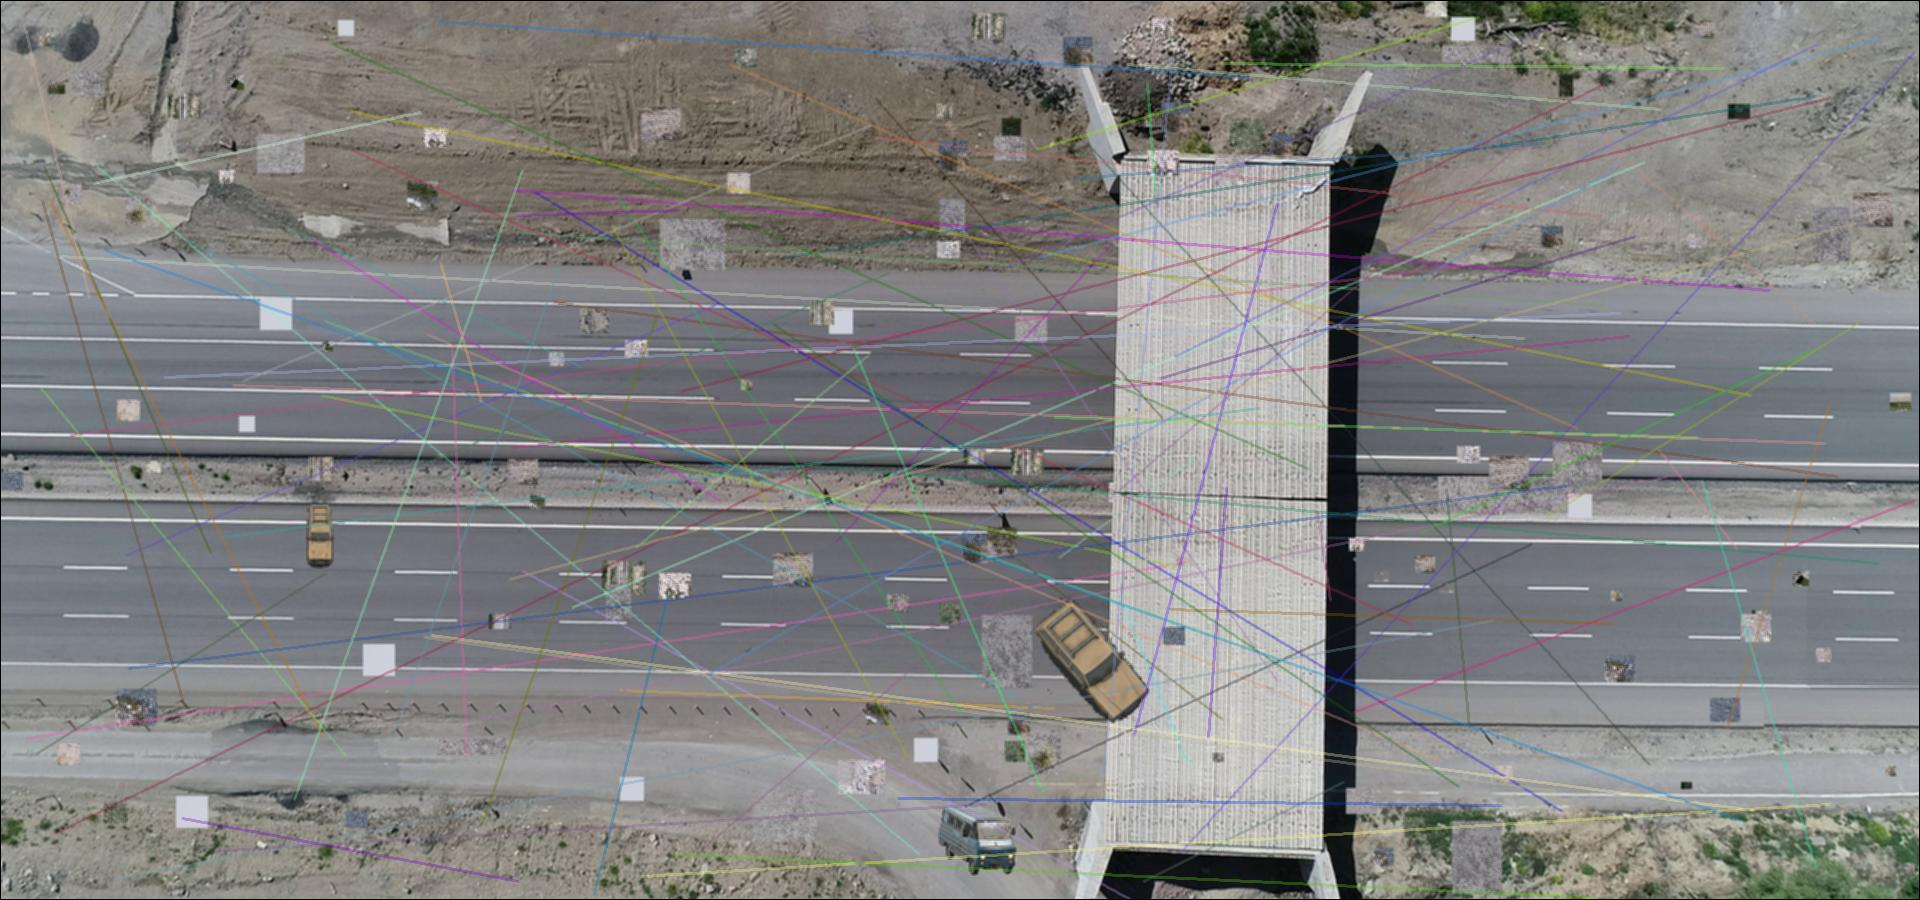arac: (1036, 594, 1151, 724), (936, 802, 1019, 877), (305, 503, 336, 568)
